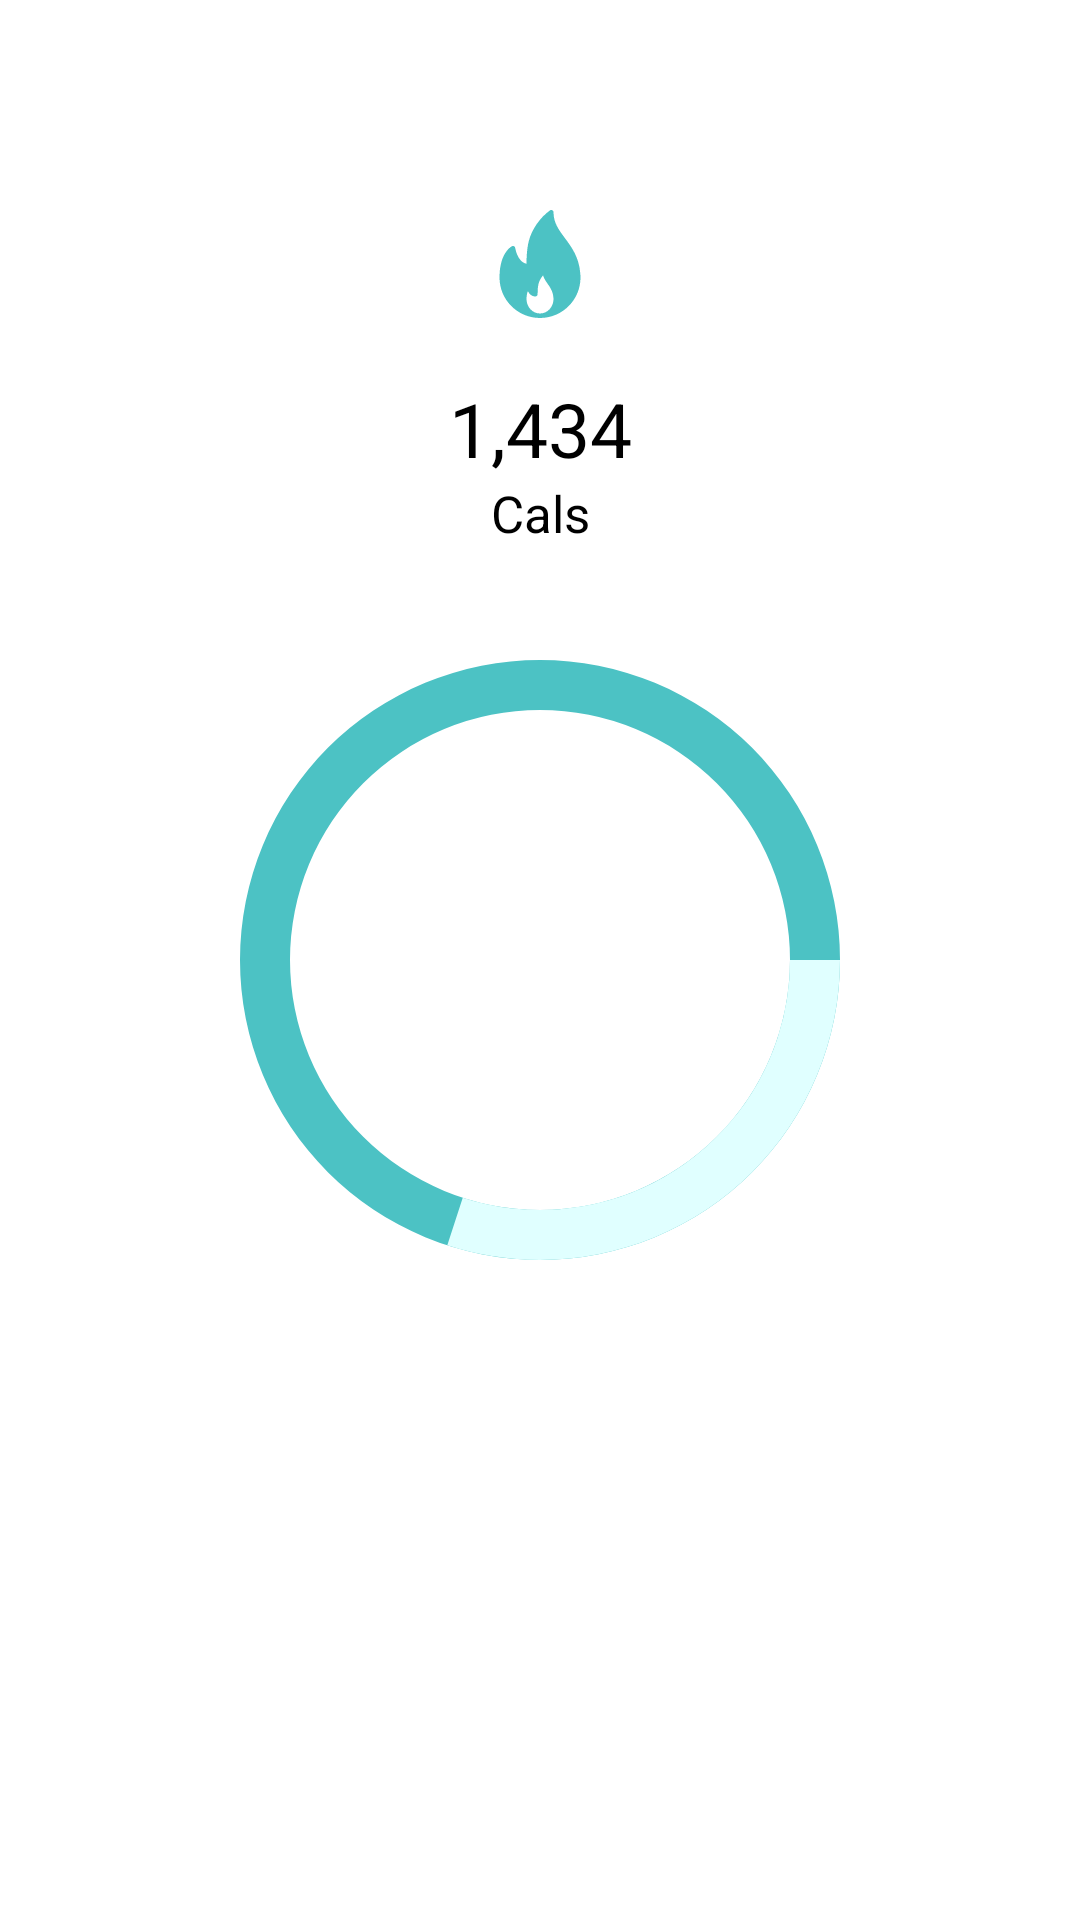

Named icons in this screenshot (1080px x 1920px) and their centers, point (x, y):
fire: point (540, 264)
